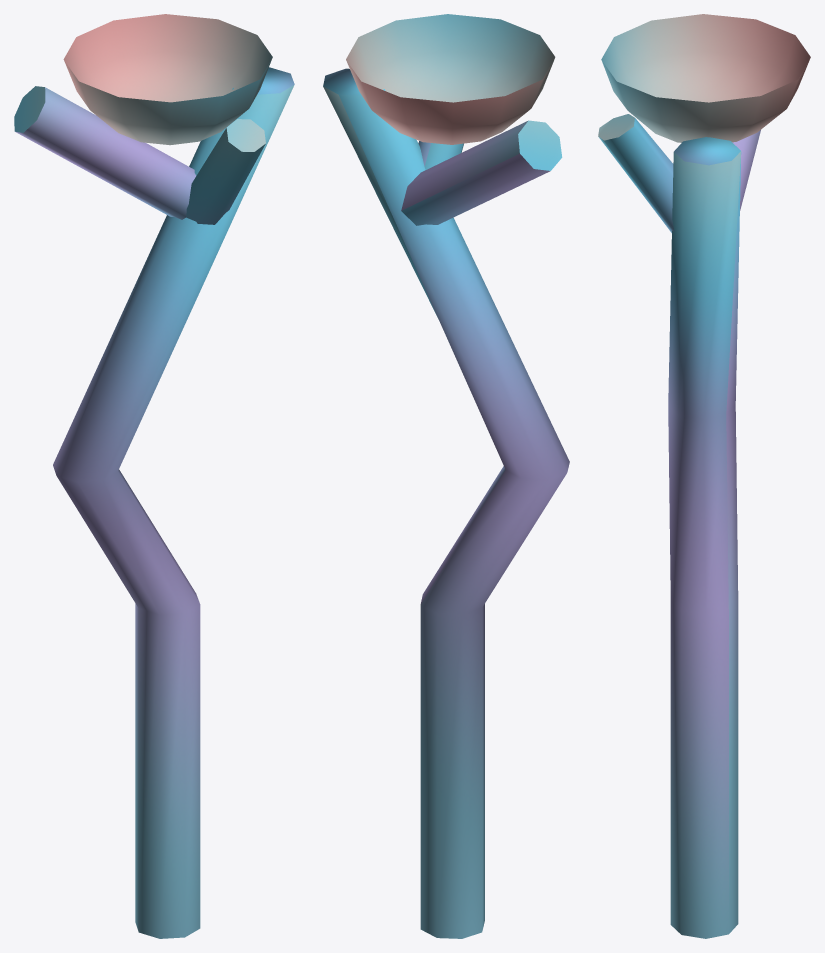
Rendered from Nest.fbx.
3 views of the same model, side by side, from view 1: azimuth 30°, elevation 25°; view 2: azimuth 150°, elevation 25°; view 3: azimuth 270°, elevation 25° (orthographic).
Visible parts, largest first — view 1: Nest; view 2: Nest; view 3: Nest.
Part boxes in pixels (left/top/right/bottom): Nest: left=14, top=14, right=294, bottom=938; Nest: left=323, top=14, right=569, bottom=938; Nest: left=598, top=14, right=810, bottom=938.
Size of the model in its own units: 76.09 by 250 by 55.59.
